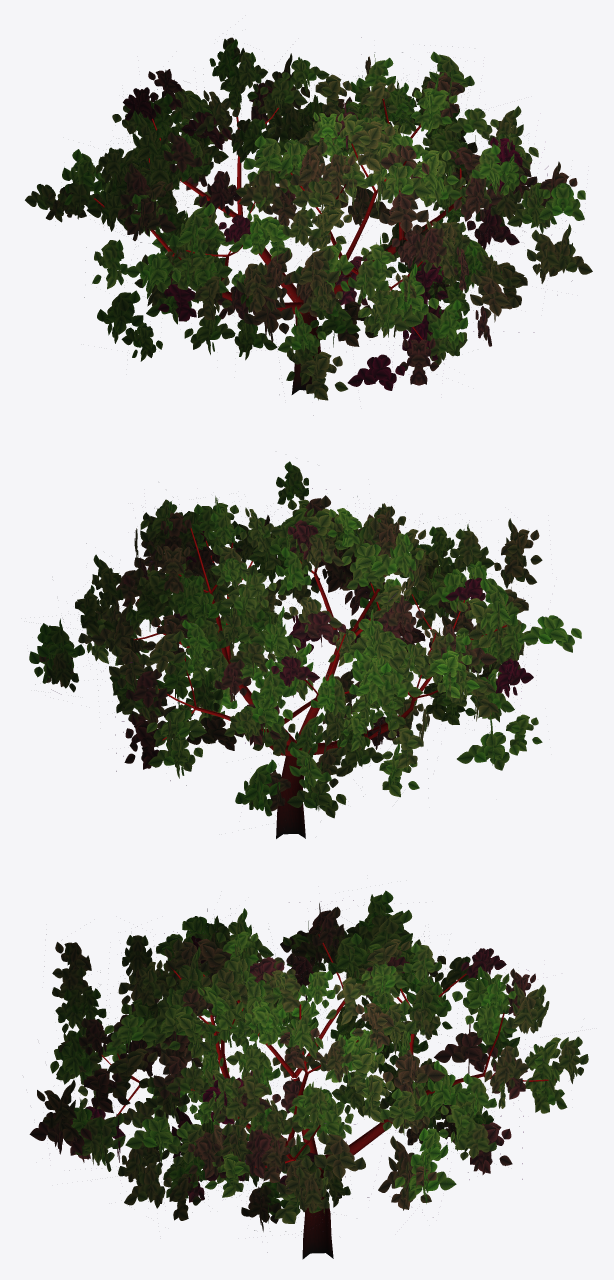
Rendered from beech_a.glb.
3 renders of one model, top to bottom at view 1: azimuth 30°, elevation 25°; view 2: azimuth 150°, elevation 25°; view 3: azimuth 270°, elevation 25°, orthographic. The views are drawn at different scales.
Visible parts, largest first — view 1: Beech_A; view 2: Beech_A; view 3: Beech_A.
Part boxes in pixels (bbox=[...]): Beech_A: bbox=[25, 37, 592, 415]; Beech_A: bbox=[29, 461, 581, 838]; Beech_A: bbox=[29, 890, 588, 1259].
Bounding box in the file's own units: 16.42 × 10.83 × 17.37.
1 material, 1 textured.
